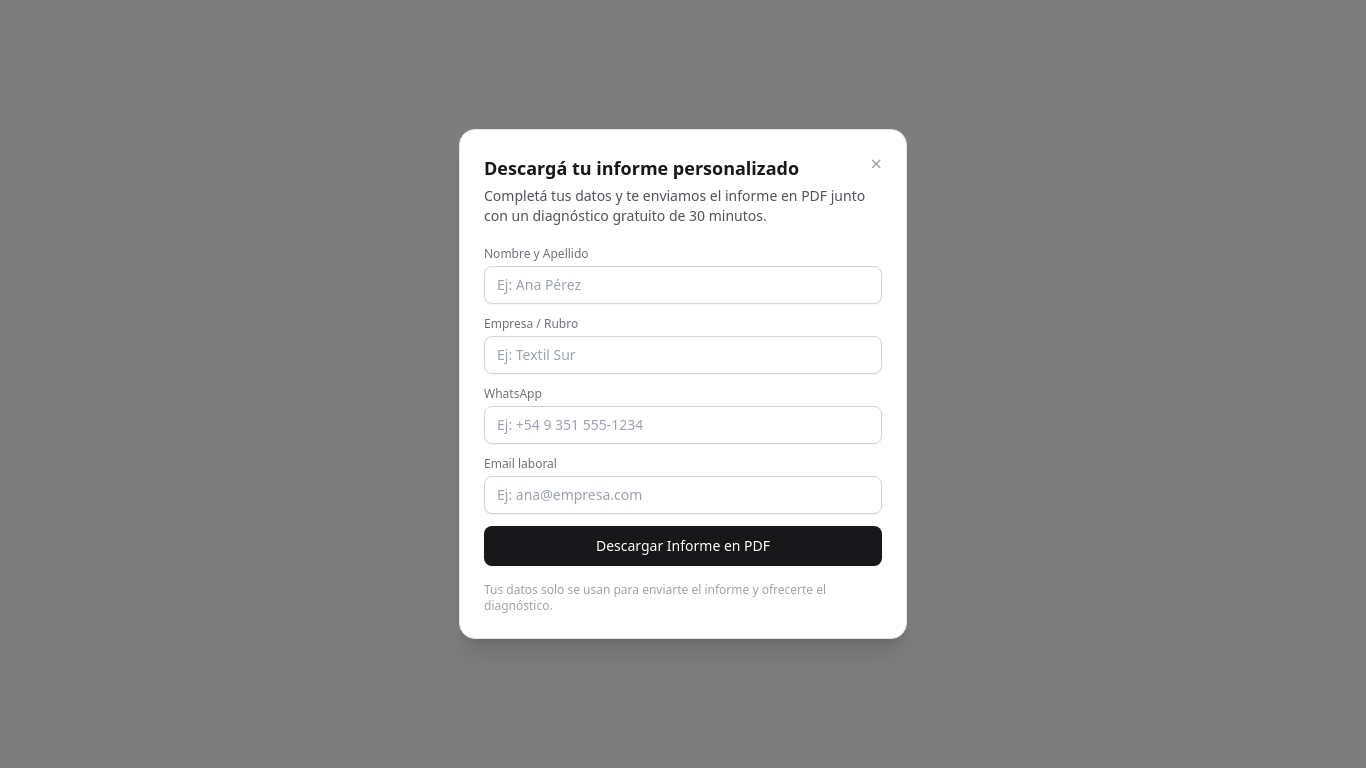
Test: LeadModal › submit vacío → errores inline
Click the button with test id "leads-submit": (683, 546) [484, 526, 882, 566]
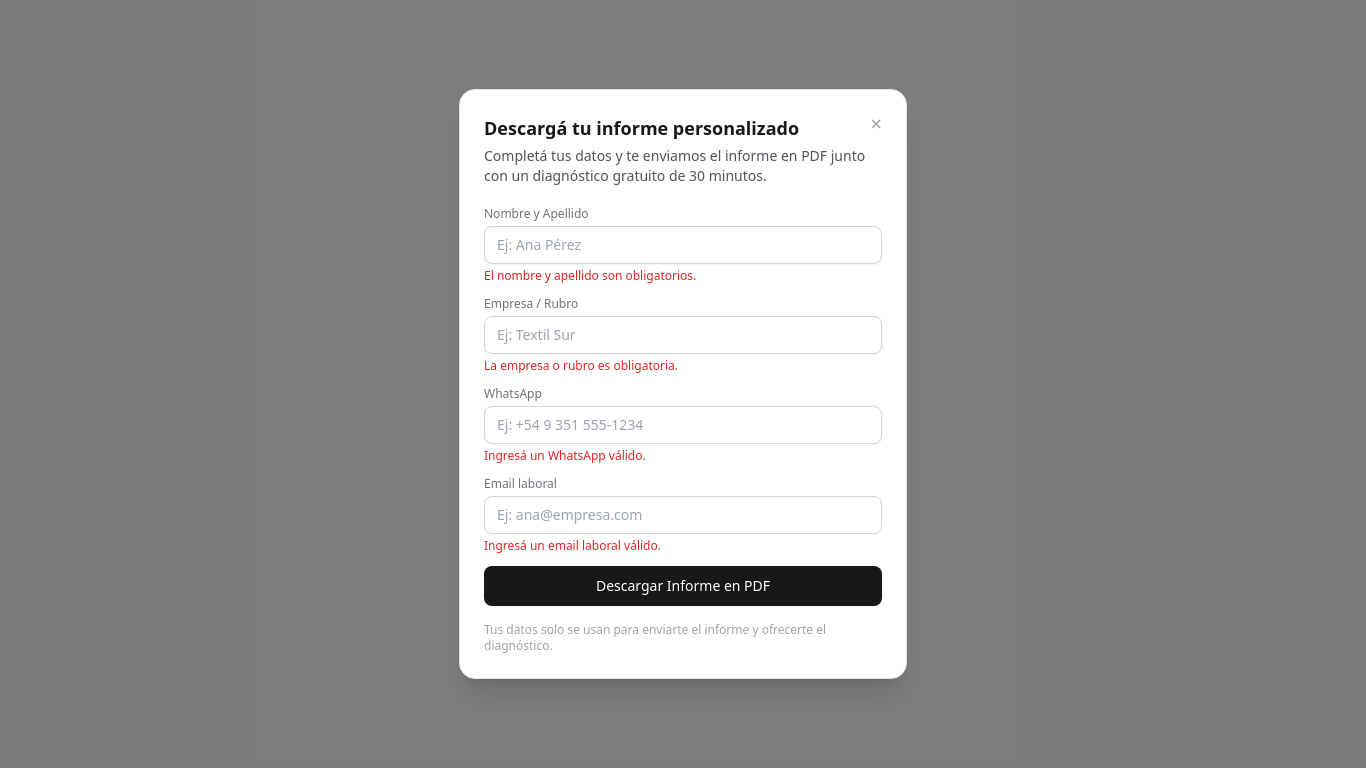
Expected: the text "El nombre y apellido son obligatorios." is shown, [484, 267, 696, 284]
Expected: the text "La empresa o rubro es obligatoria." is shown, [484, 357, 678, 374]
Expected: the text "Ingresá un WhatsApp válido." is shown, [484, 447, 646, 464]
